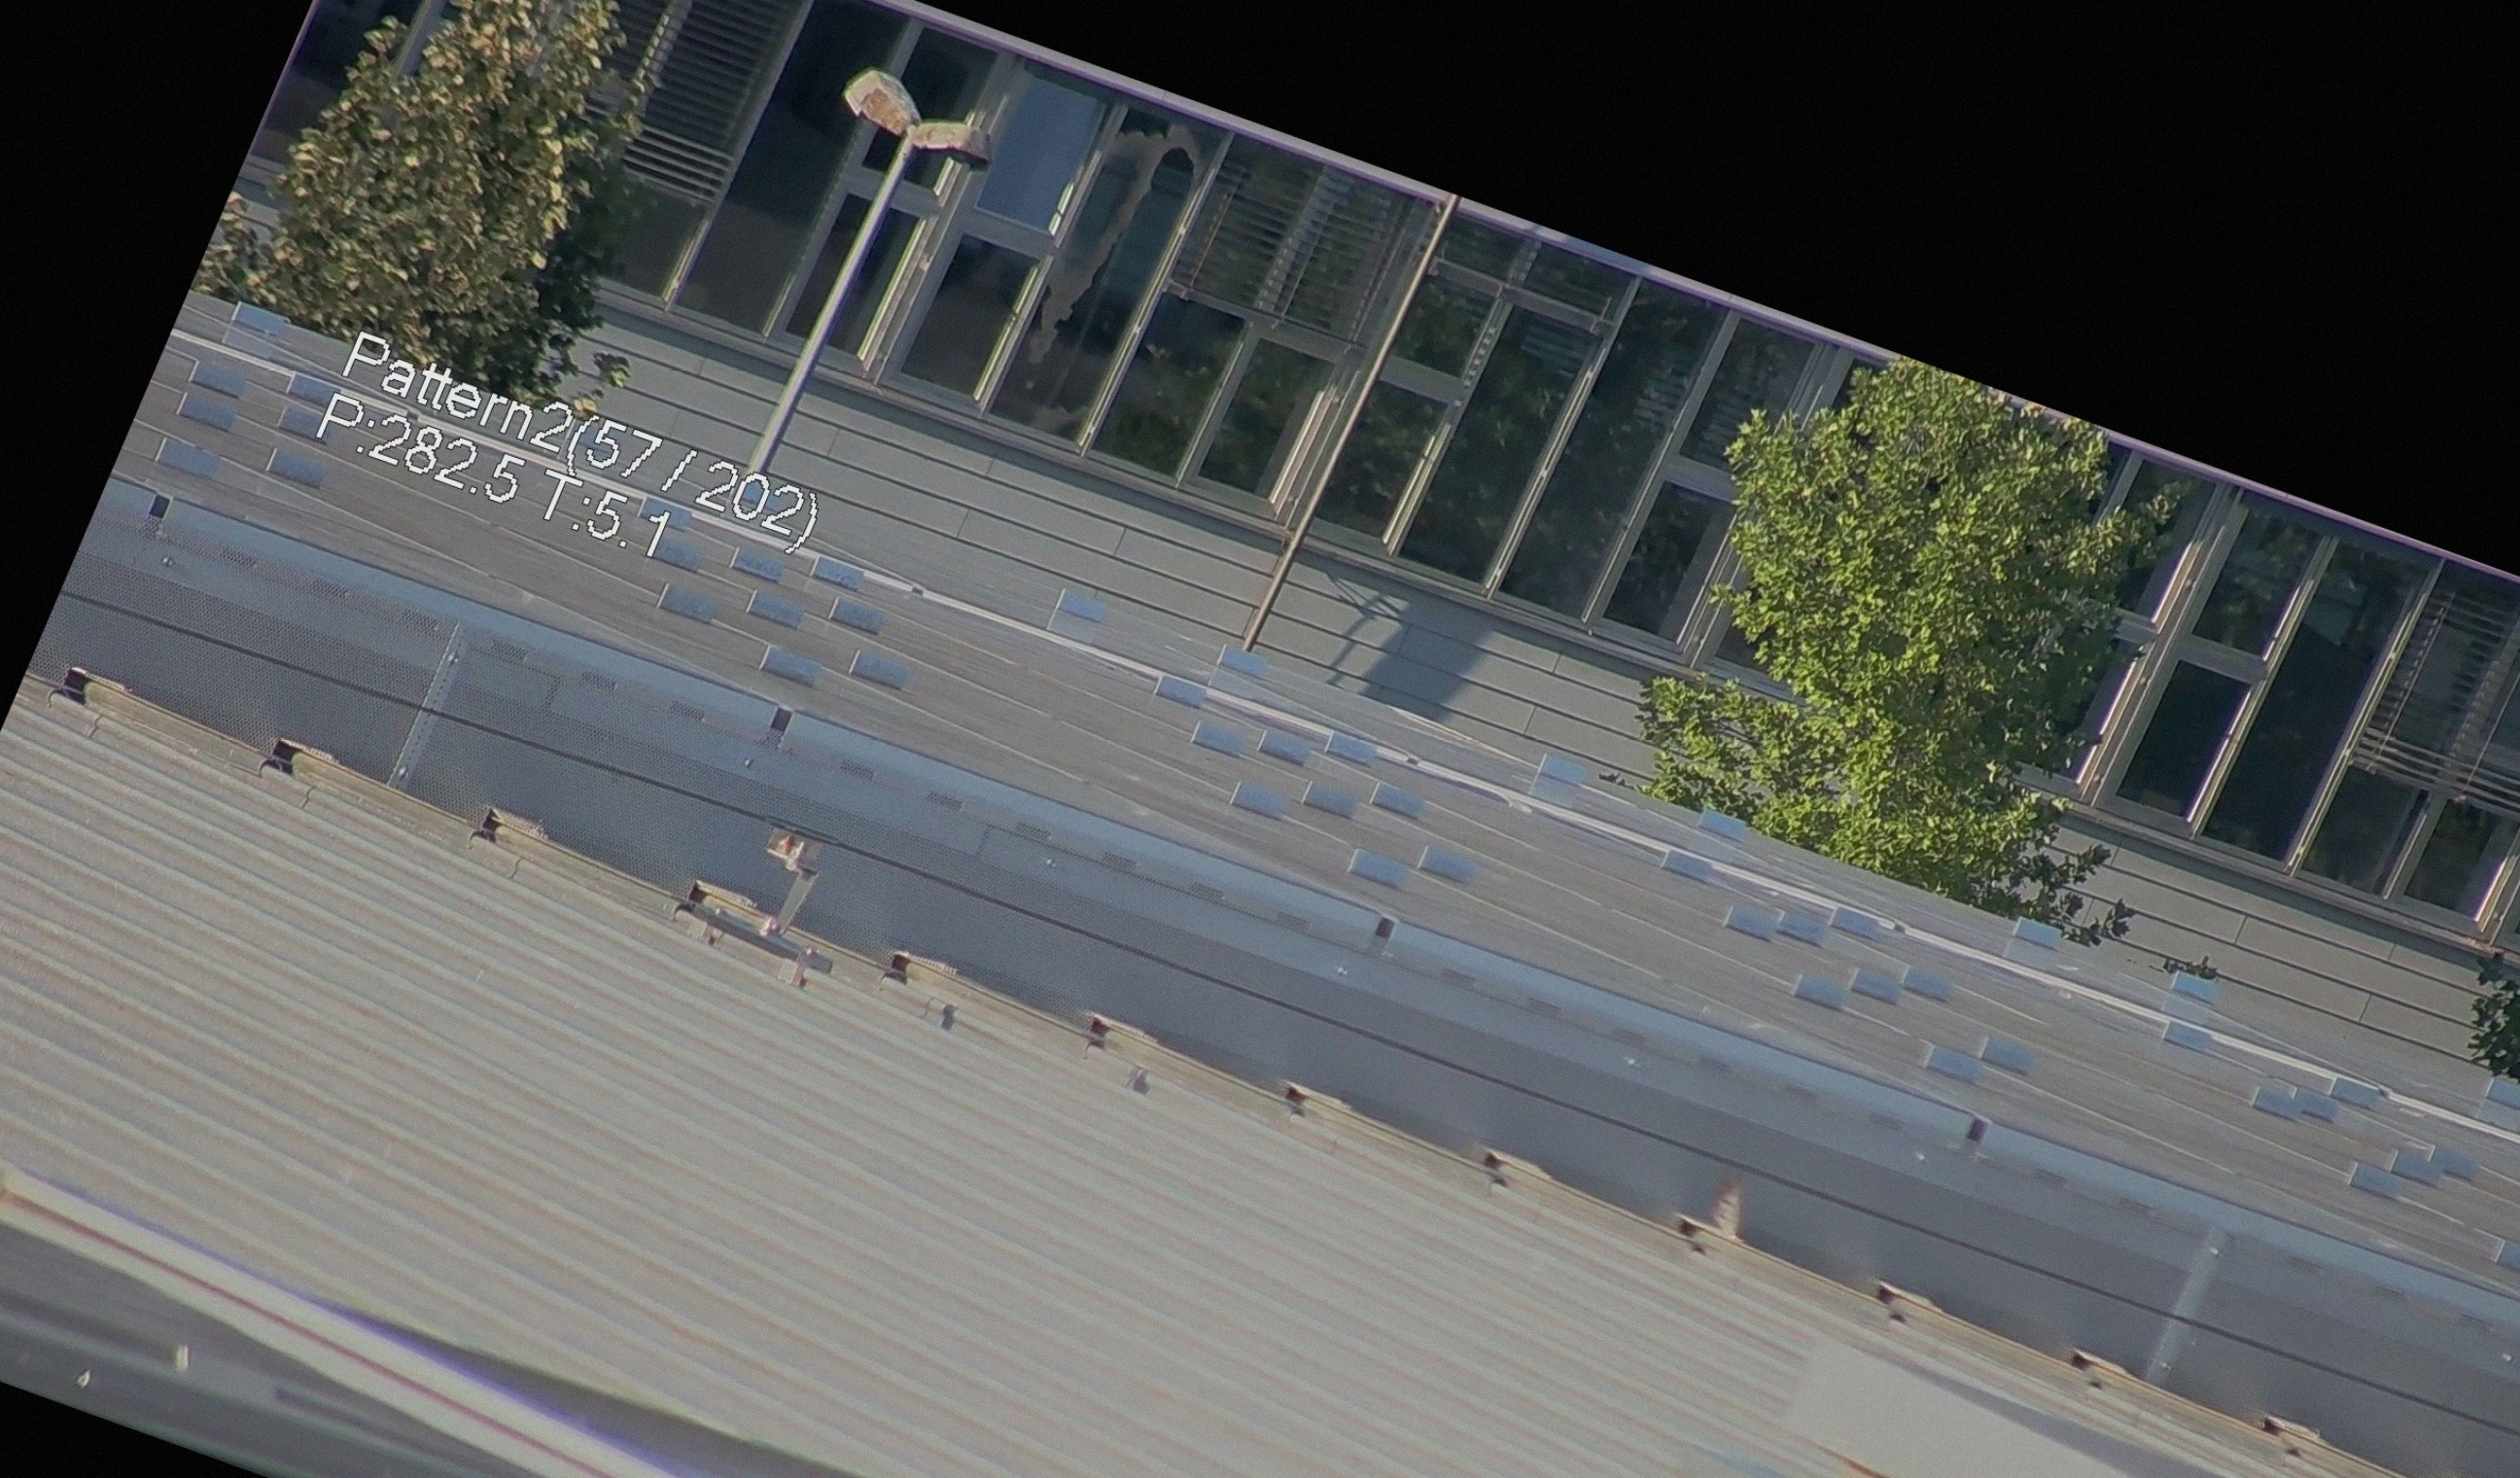Other: (1667, 1151, 1781, 1277)
